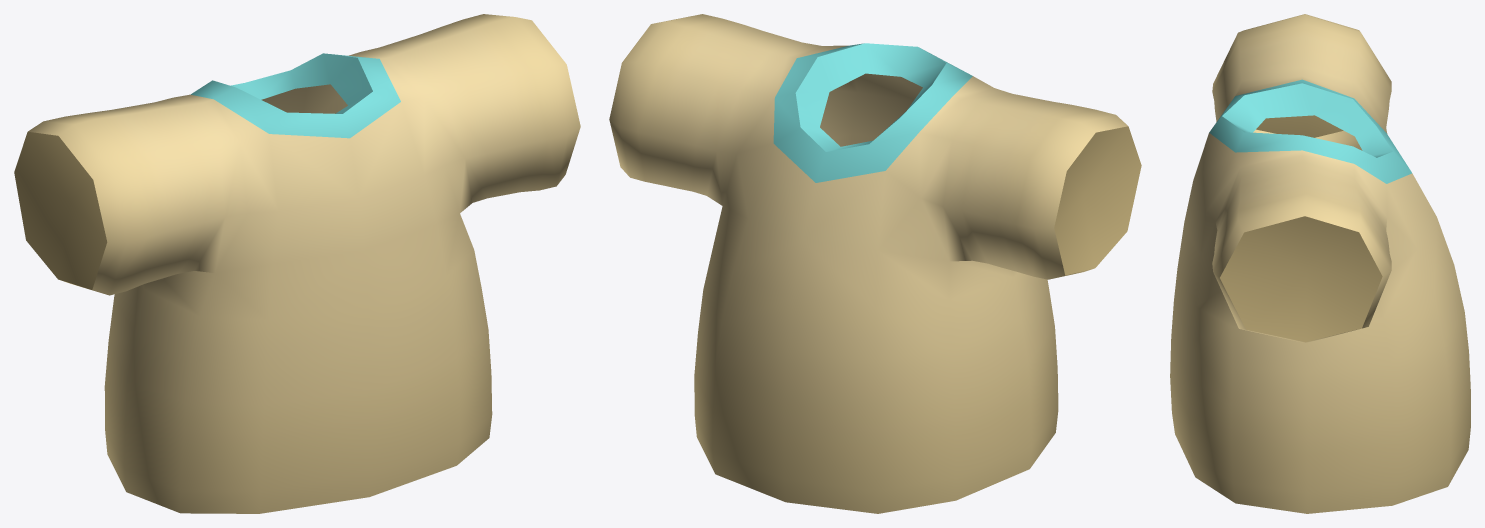
Rendered from Top_3.fbx.
3 views of the same model, side by side, from view 1: azimuth 30°, elevation 25°; view 2: azimuth 150°, elevation 25°; view 3: azimuth 270°, elevation 25° (orthographic). The views are drawn at different scales.
Parts seen in each view (by area): view 1: Top_3; view 2: Top_3; view 3: Top_3.
Boxes of the visible parts, x1=… form: Top_3: x1=14, y1=14, x2=580, y2=513; Top_3: x1=609, y1=14, x2=1141, y2=513; Top_3: x1=1170, y1=14, x2=1470, y2=513.
Size of the model in its own units: 58.02 by 45.64 by 36.49.
